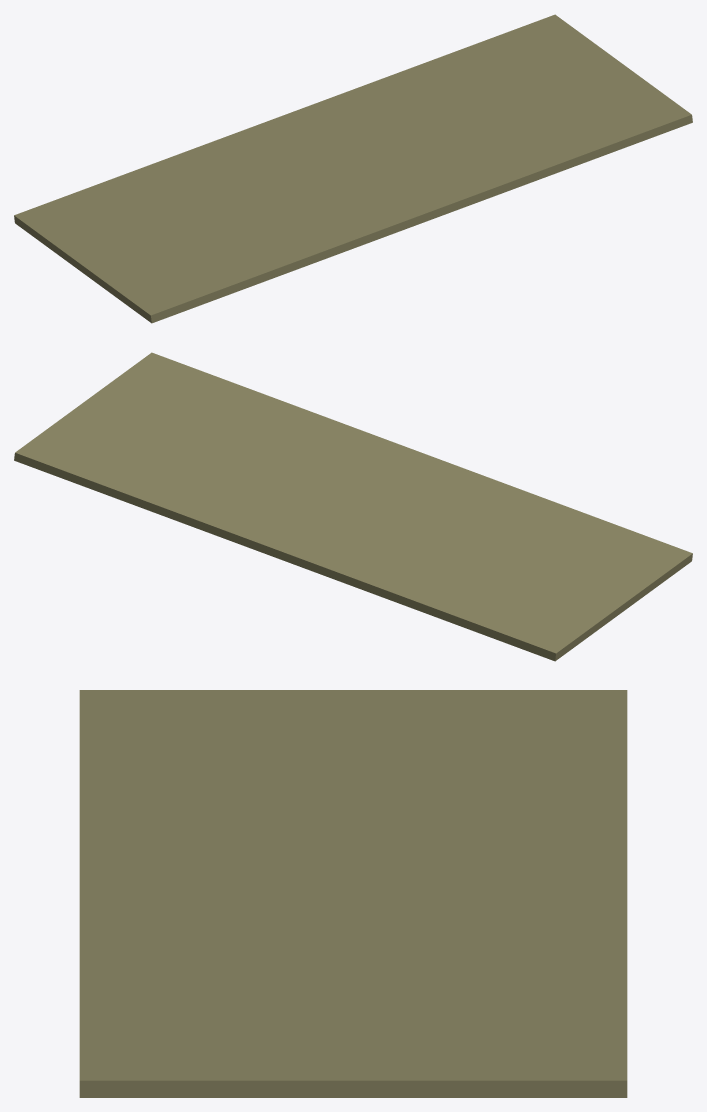
The model's file is debris13.fbx.
3 views of the same model, one above another, from view 1: azimuth 30°, elevation 25°; view 2: azimuth 150°, elevation 25°; view 3: azimuth 270°, elevation 25° (orthographic). The views are drawn at different scales.
Parts seen in each view (by area): view 1: Box05; view 2: Box05; view 3: Box05.
Part boxes in pixels (<box>): Box05: <box>14,14,692,323</box>; Box05: <box>14,352,692,661</box>; Box05: <box>79,690,627,1097</box>.
Bounding box in the file's own units: 1716 × 233 × 750.
